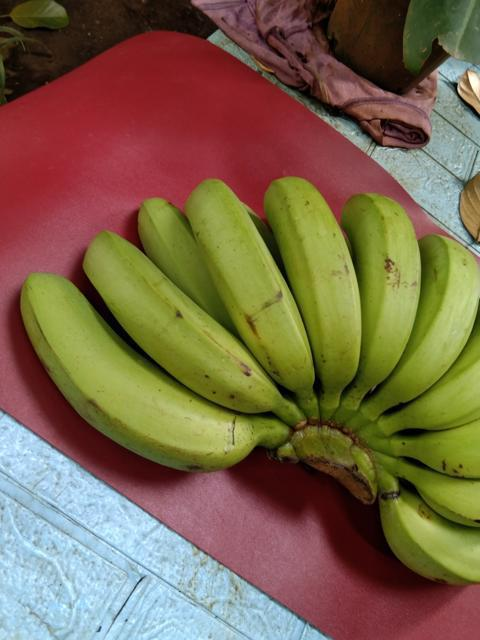freshunripe: (15, 269, 272, 477), (74, 230, 279, 419), (259, 164, 372, 393), (378, 231, 477, 405), (131, 190, 218, 318)
